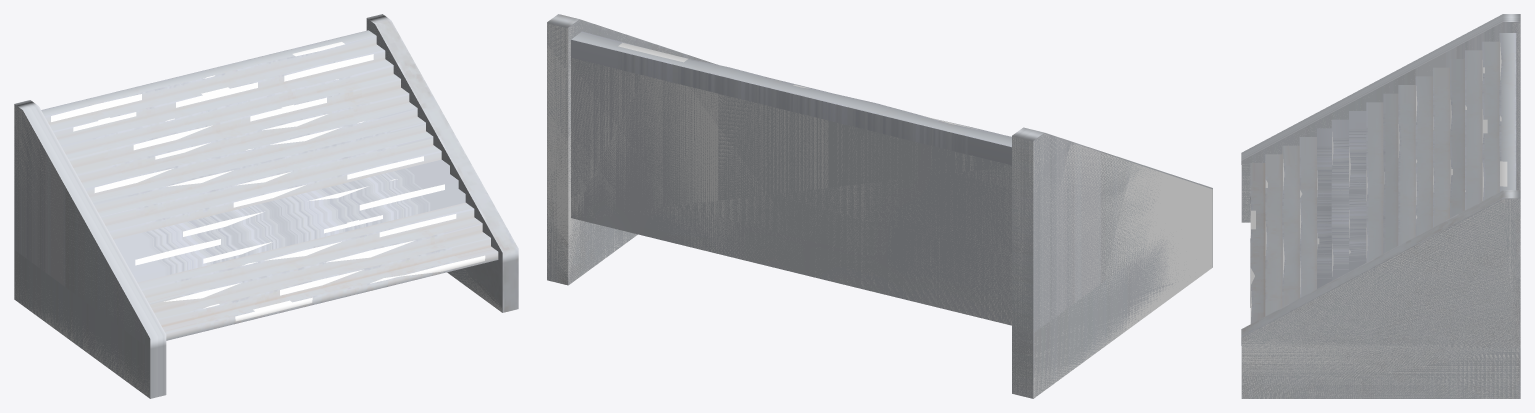
File: objects_un_t01house02_step01.gltf
3 views of the same model, side by side, from view 1: azimuth 30°, elevation 25°; view 2: azimuth 150°, elevation 25°; view 3: azimuth 270°, elevation 25° (orthographic). The views are drawn at different scales.
Visible parts, largest first — view 1: um_objects_un_t01house02_step01_model_lod0Shape:objects_un_t (×3); view 2: um_objects_un_t01house02_step01_model_lod0Shape:objects_un_t (×3); view 3: um_objects_un_t01house02_step01_model_lod0Shape:objects_un_t (×3).
Boxes of the visible parts, box(x1,y1,x2,y2) form: um_objects_un_t01house02_step01_model_lod0Shape:objects_un_t (×3): box(14, 14, 518, 398); um_objects_un_t01house02_step01_model_lod0Shape:objects_un_t (×3): box(547, 14, 1212, 398); um_objects_un_t01house02_step01_model_lod0Shape:objects_un_t (×3): box(1241, 14, 1520, 398).
Size of what is drawn, in the model's own units: 11.4 by 5.78 by 7.29.
3 materials, 2 textured.
